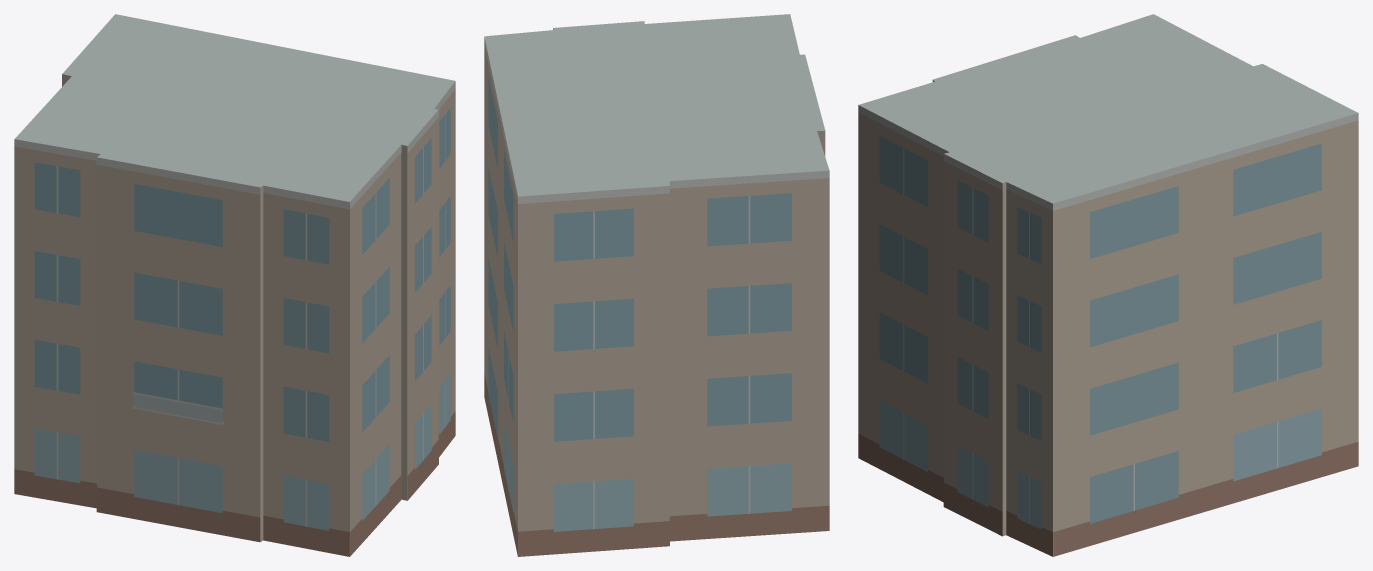
The model's file is survey-upis-33046527.glb.
The picture shows the model from 3 angles, left to right: view 1: azimuth 30°, elevation 25°; view 2: azimuth 150°, elevation 25°; view 3: azimuth 270°, elevation 25°; orthographic projection.
Visible parts, largest first — view 1: survey-upis-33046527.tmp; view 2: survey-upis-33046527.tmp; view 3: survey-upis-33046527.tmp.
Boxes of the visible parts, x1,y1,x2,y2 form: survey-upis-33046527.tmp: (14, 14, 455, 556); survey-upis-33046527.tmp: (484, 14, 829, 556); survey-upis-33046527.tmp: (858, 14, 1358, 556).
Size of the model in its own units: 13.6 by 11.8 by 15.16.
